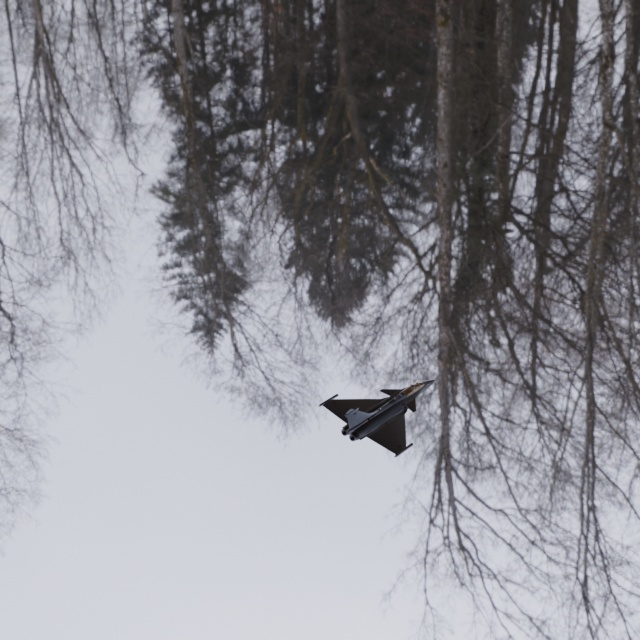dassault_rafale: (301, 332, 480, 473)
